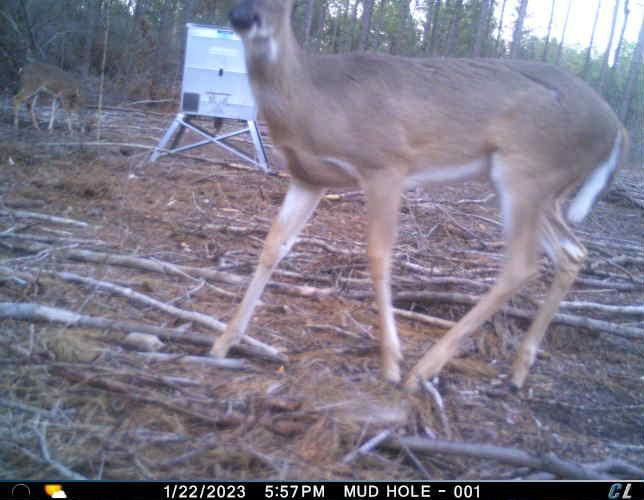Deer: (208, 0, 633, 396), (10, 61, 85, 135)
